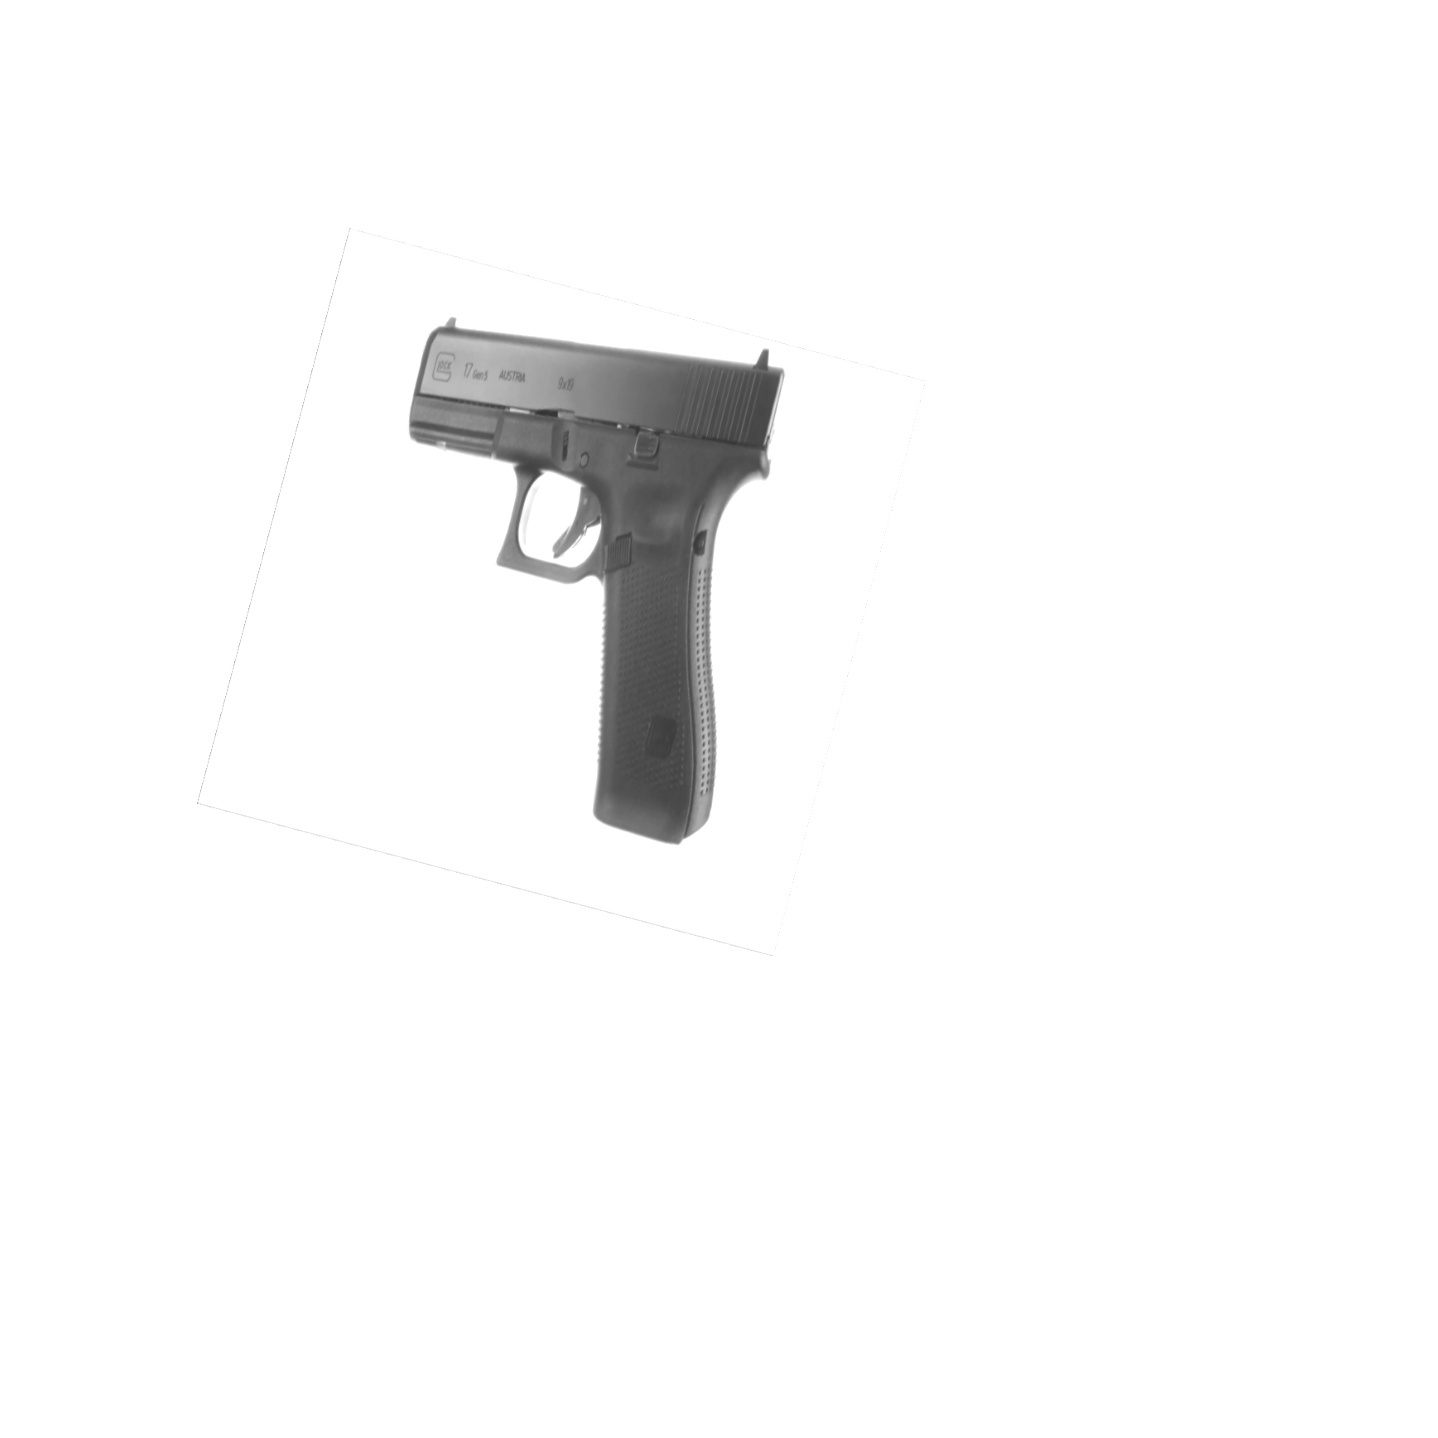gun: (402, 309, 791, 851)
